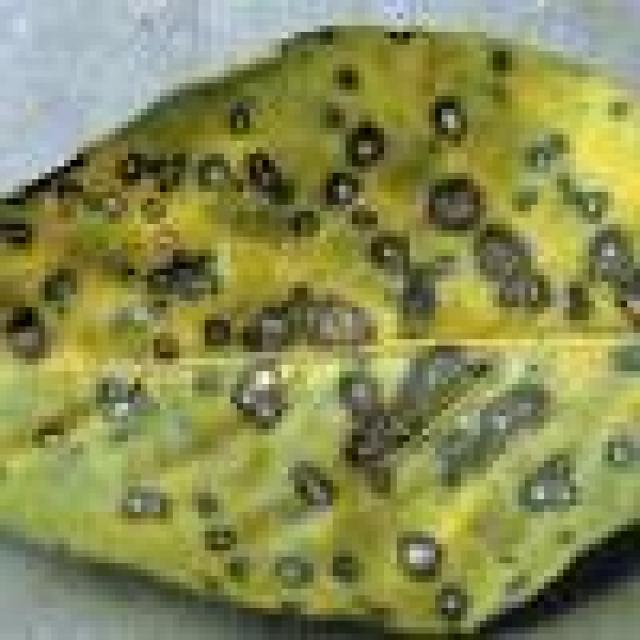black-spot: (126, 122, 495, 424)
